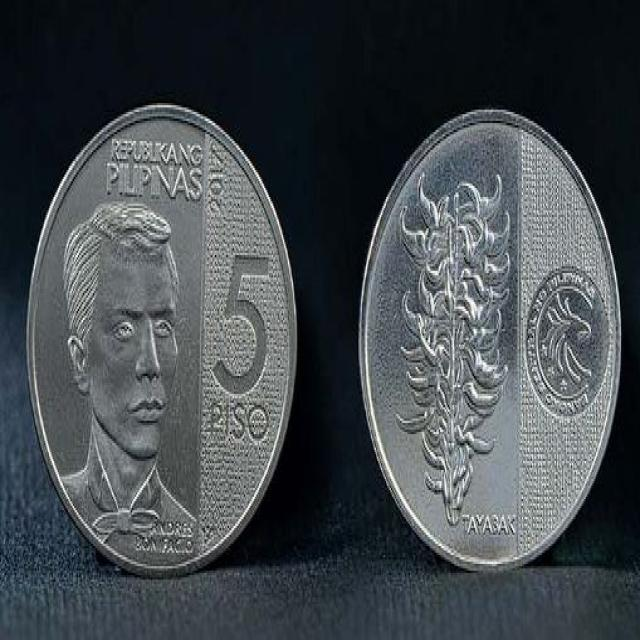5 peso: (24, 97, 300, 581), (353, 94, 626, 574)
